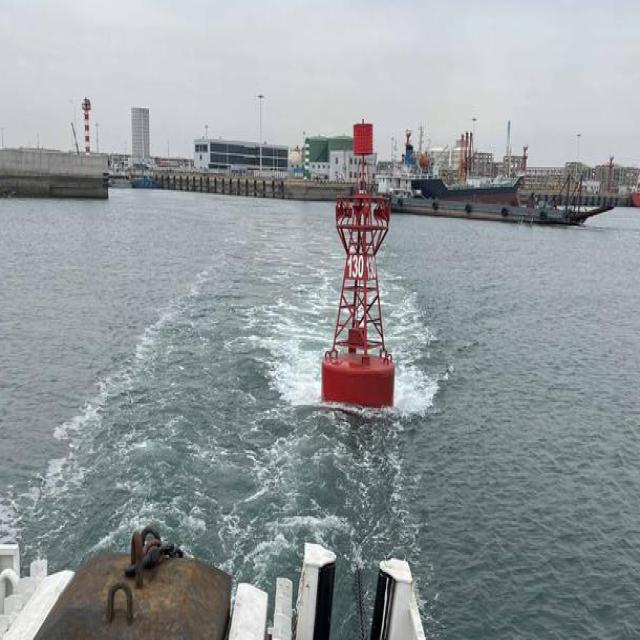buoy: (318, 118, 394, 412)
